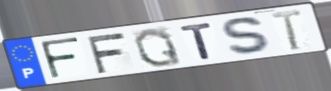F: (38, 36, 83, 81), (84, 31, 128, 76)
Q: (132, 26, 185, 68)
S: (220, 16, 277, 57)
T: (269, 8, 305, 52), (178, 21, 215, 61)
